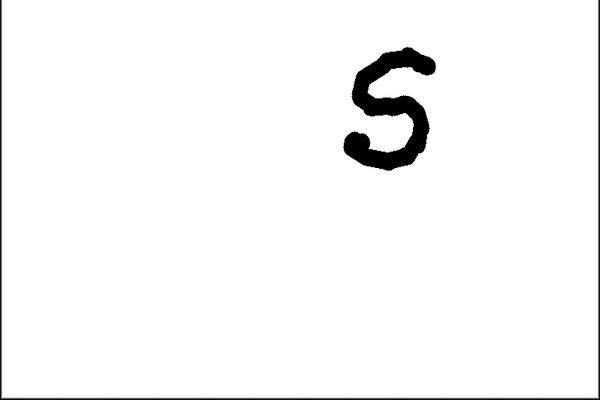S: (341, 42, 441, 174)
